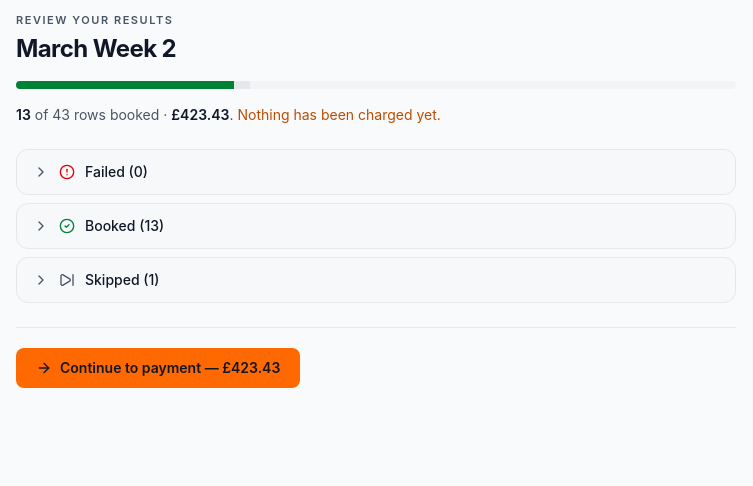
Test: a skipped row matched on content says so rather than naming a reference
Click the button "Skipped (1)". click: x=112, y=279
box: [17,258,735,302]
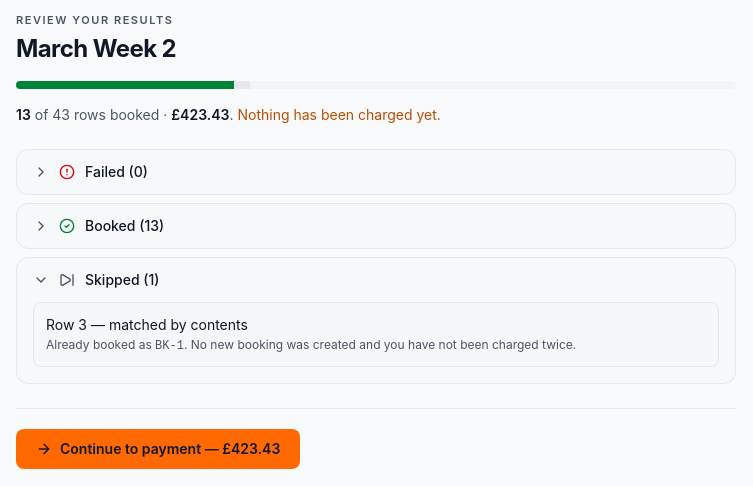
Now the text "Row 3 — matched by contents" is shown, box [46,316,248,332]
